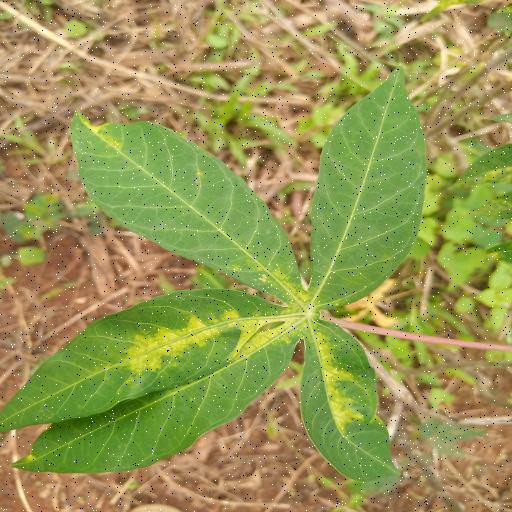Cassava_Mosaic: (0, 63, 428, 485)
